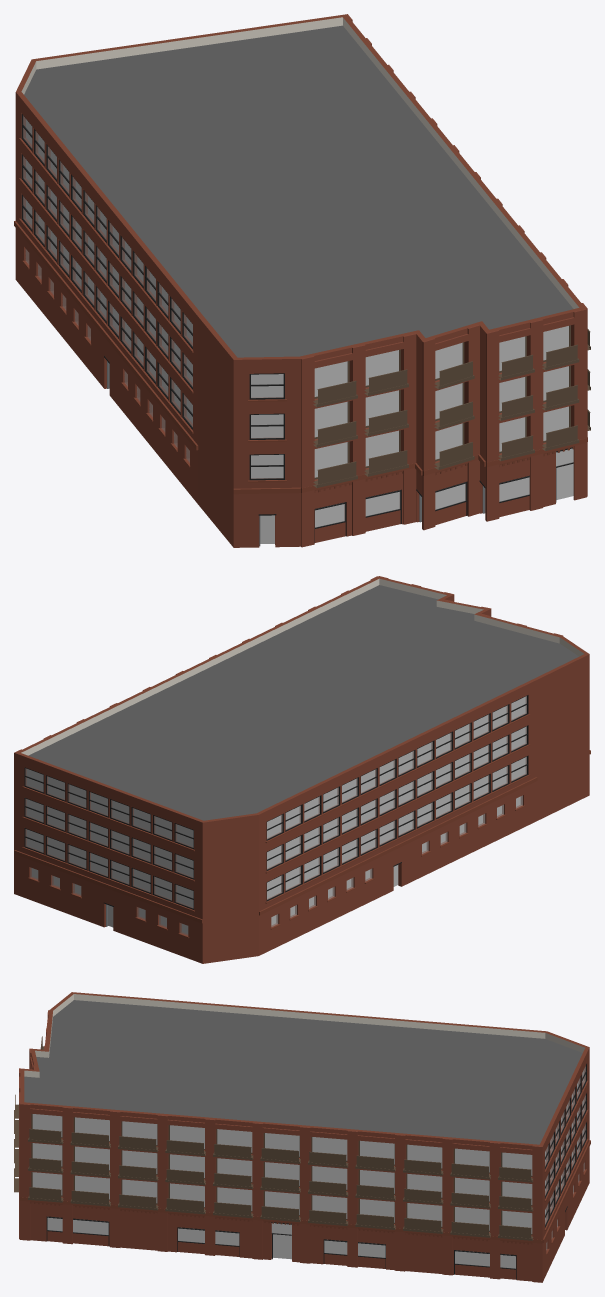
The model's file is exterior.glb.
The picture shows the model from 3 angles, top to bottom: view 1: azimuth 30°, elevation 25°; view 2: azimuth 150°, elevation 25°; view 3: azimuth 270°, elevation 25°; orthographic projection. The views are drawn at different scales.
Visible parts, largest first — view 1: roof, shell, shadow-proxy, storefront, glazing, relief-1, relief-5, frames, trim, relief-3; view 2: shell, roof, glazing, shadow-proxy, frames, trim; view 3: roof, shell, storefront, shadow-proxy, relief-6, glazing, trim, frames.
Part boxes in pixels (x1,y1,x2,y2): roof: (24,25,573,357); shell: (15,14,585,547); shadow-proxy: (26,119,573,543); storefront: (104,325,590,546); glazing: (23,116,573,527); relief-1: (301,333,416,547); relief-5: (486,309,586,521); frames: (21,114,284,480); trim: (14,138,587,494); relief-3: (422,325,479,530); shell: (15,576,589,963); roof: (28,585,578,820); glazing: (25,696,526,935); shadow-proxy: (27,697,525,933); frames: (24,695,528,909); trim: (14,714,590,938); roof: (24,1000,582,1144); shell: (20,992,589,1281); storefront: (14,1036,567,1279); shadow-proxy: (32,1071,583,1268); relief-6: (20,1103,542,1282); glazing: (47,1066,585,1268); trim: (20,1080,590,1254); frames: (545,1063,586,1227).
Bounding box in the file's own units: 32.02 × 12.95 × 49.89.
